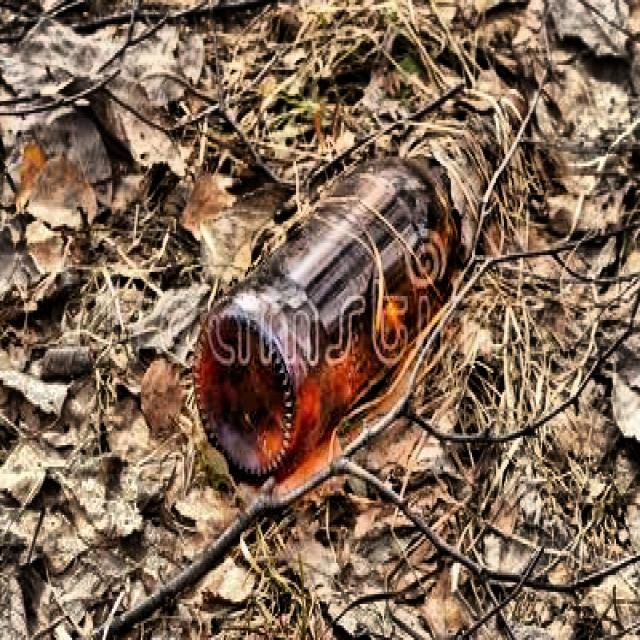glass: (192, 104, 530, 487)
